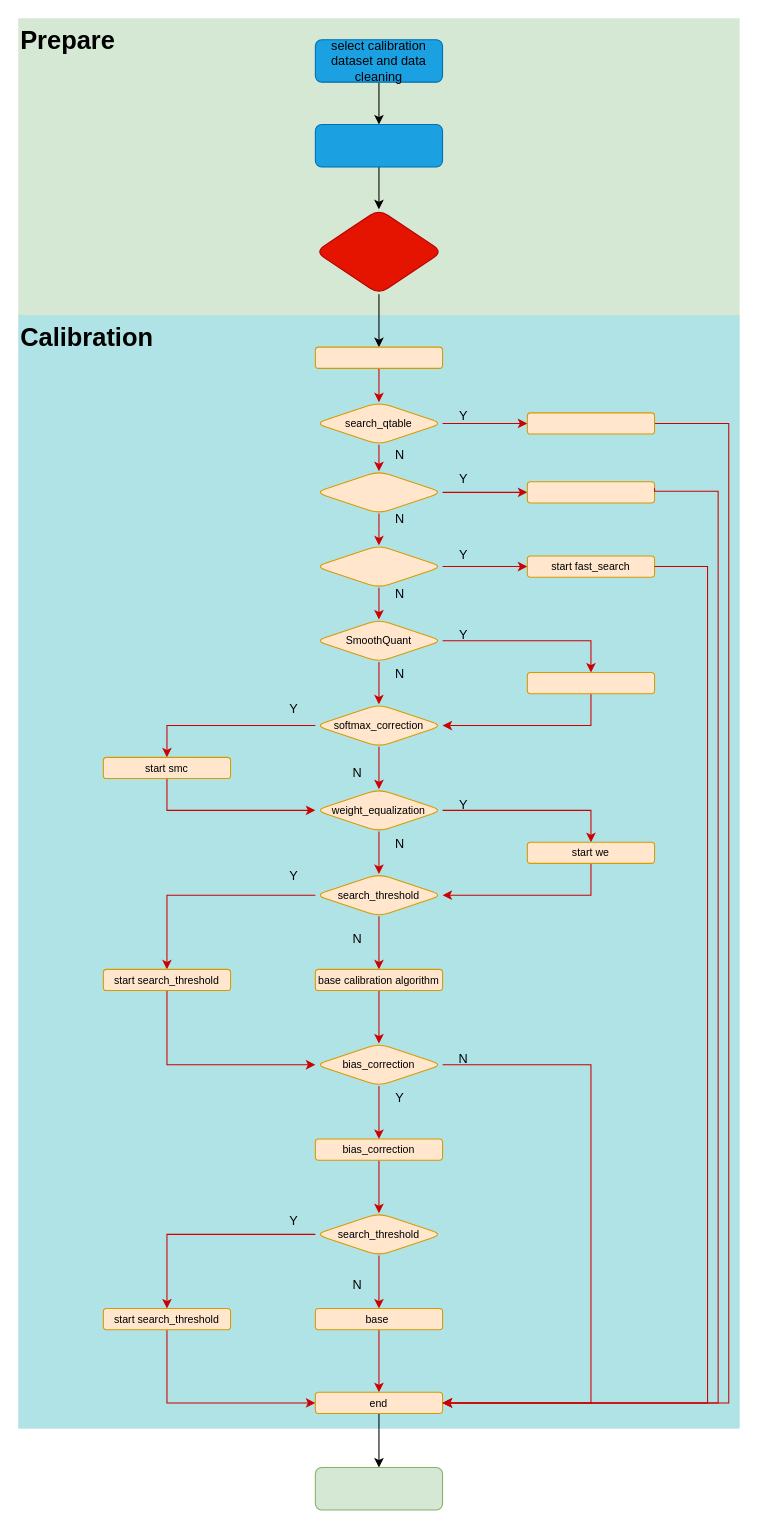
This 757x1529 diagram has some shape labels left out. The centre of each missing label's shape, as x and y in pixels:
"align float model" belongs at point (378, 251).
"data pre-processing" belongs at point (378, 145).
"fast_search" belongs at point (378, 566).
"generate calibration table" belongs at point (378, 1488).
"mix_search" belongs at point (378, 492).
"start" belongs at point (378, 357).
"start mix_qtable" belongs at point (590, 492).
"start search_qtable" belongs at point (590, 423).
"start smoothQuant" belongs at point (590, 683).
